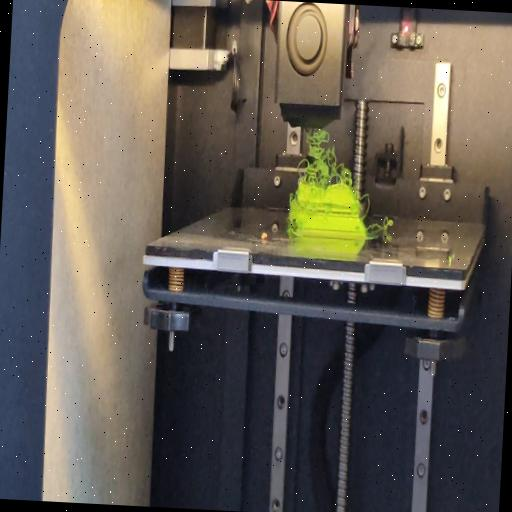spaghetti: (297, 128, 357, 188), (370, 216, 394, 236), (362, 191, 372, 219), (288, 222, 296, 234)
